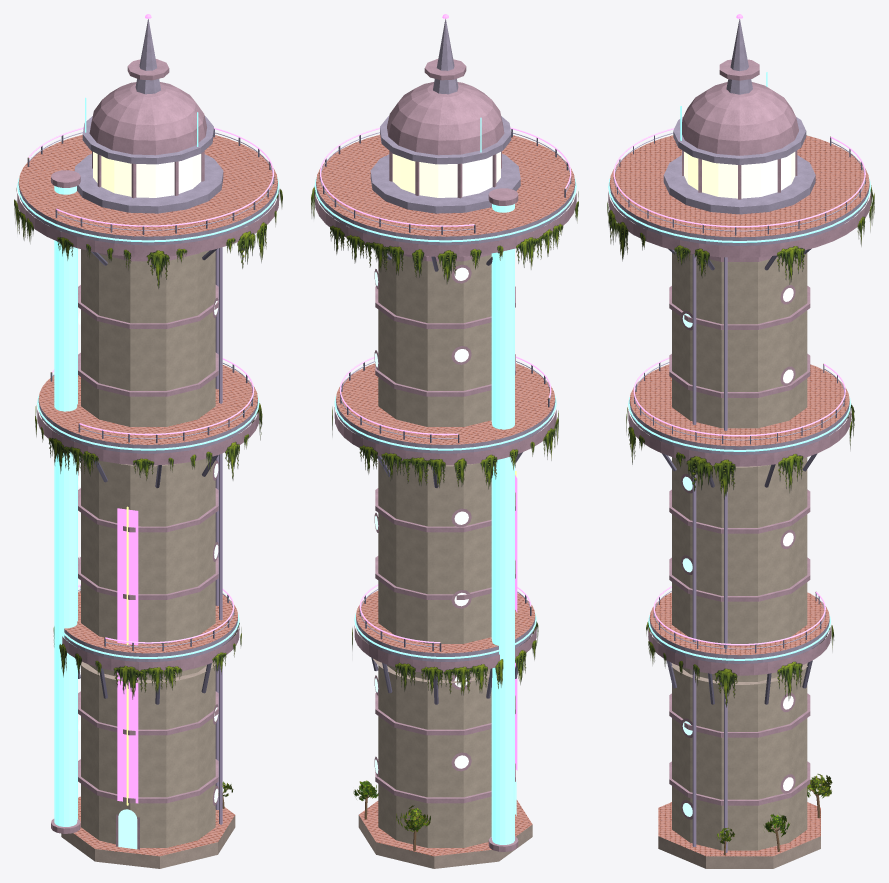
File: TOWER_G.glb
The picture shows the model from 3 angles, left to right: view 1: azimuth 30°, elevation 25°; view 2: azimuth 150°, elevation 25°; view 3: azimuth 270°, elevation 25°; orthographic projection.
Parts seen in each view (by area): view 1: BT_TOWER_G_Body, BT_TOWER_G_Moss72, BT_TOWER_G_Moss48, BT_TOWER_G_Moss24, BT_TOWER_G_Deck72_Rail0_Posts, BT_TOWER_G_Deck72_Rail0_Rail, BT_TOWER_G_Deck48_Rail0_Posts; view 2: BT_TOWER_G_Body, BT_TOWER_G_Moss72, BT_TOWER_G_Moss48, BT_TOWER_G_Moss24, BT_TOWER_G_Trees, BT_TOWER_G_Deck72_Rail0_Posts, BT_TOWER_G_Deck72_Rail0_Rail; view 3: BT_TOWER_G_Body, BT_TOWER_G_Moss48, BT_TOWER_G_Moss72, BT_TOWER_G_Moss24, BT_TOWER_G_Trees, BT_TOWER_G_Deck72_Rail0_Rail, BT_TOWER_G_Deck72_Rail0_Posts, BT_TOWER_G_Deck48_Rail0_Rail, BT_TOWER_G_Deck48_Rail0_Posts.
Boxes of the visible parts, bbox=[...] form: BT_TOWER_G_Body: bbox=[17, 14, 279, 868]; BT_TOWER_G_Moss72: bbox=[14, 188, 282, 288]; BT_TOWER_G_Moss48: bbox=[35, 403, 262, 480]; BT_TOWER_G_Moss24: bbox=[53, 623, 241, 699]; BT_TOWER_G_Deck72_Rail0_Posts: bbox=[27, 129, 274, 234]; BT_TOWER_G_Deck72_Rail0_Rail: bbox=[28, 127, 274, 226]; BT_TOWER_G_Deck48_Rail0_Posts: bbox=[50, 363, 253, 443]; BT_TOWER_G_Body: bbox=[314, 14, 576, 868]; BT_TOWER_G_Moss72: bbox=[311, 186, 578, 283]; BT_TOWER_G_Moss48: bbox=[332, 407, 558, 489]; BT_TOWER_G_Moss24: bbox=[352, 621, 538, 695]; BT_TOWER_G_Trees: bbox=[353, 780, 430, 850]; BT_TOWER_G_Deck72_Rail0_Posts: bbox=[319, 129, 571, 234]; BT_TOWER_G_Deck72_Rail0_Rail: bbox=[320, 127, 571, 226]; BT_TOWER_G_Body: bbox=[608, 14, 871, 868]; BT_TOWER_G_Moss48: bbox=[626, 404, 854, 499]; BT_TOWER_G_Moss72: bbox=[607, 185, 874, 284]; BT_TOWER_G_Moss24: bbox=[646, 621, 834, 707]; BT_TOWER_G_Trees: bbox=[716, 774, 832, 855]; BT_TOWER_G_Deck72_Rail0_Rail: bbox=[613, 128, 865, 227]; BT_TOWER_G_Deck72_Rail0_Posts: bbox=[613, 133, 865, 235]; BT_TOWER_G_Deck48_Rail0_Rail: bbox=[633, 357, 845, 436]; BT_TOWER_G_Deck48_Rail0_Posts: bbox=[634, 362, 845, 444].
Size of the model in its own units: 26.59 by 90.55 by 26.74.
Materials: 15 (6 with a texture image).
